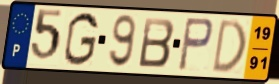5: (29, 8, 65, 66)
9: (108, 12, 138, 70)
B: (137, 16, 176, 69)
D: (210, 18, 248, 75)
G: (62, 11, 100, 68)
P: (176, 16, 215, 74)
